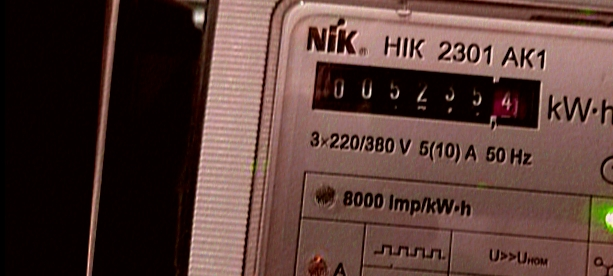0: (331, 75, 349, 102), (361, 75, 376, 101)
2: (416, 78, 431, 104)
3: (444, 78, 459, 104)
4: (500, 86, 517, 113)
5: (470, 81, 487, 109), (388, 76, 404, 103)
screen: (303, 52, 555, 139)
